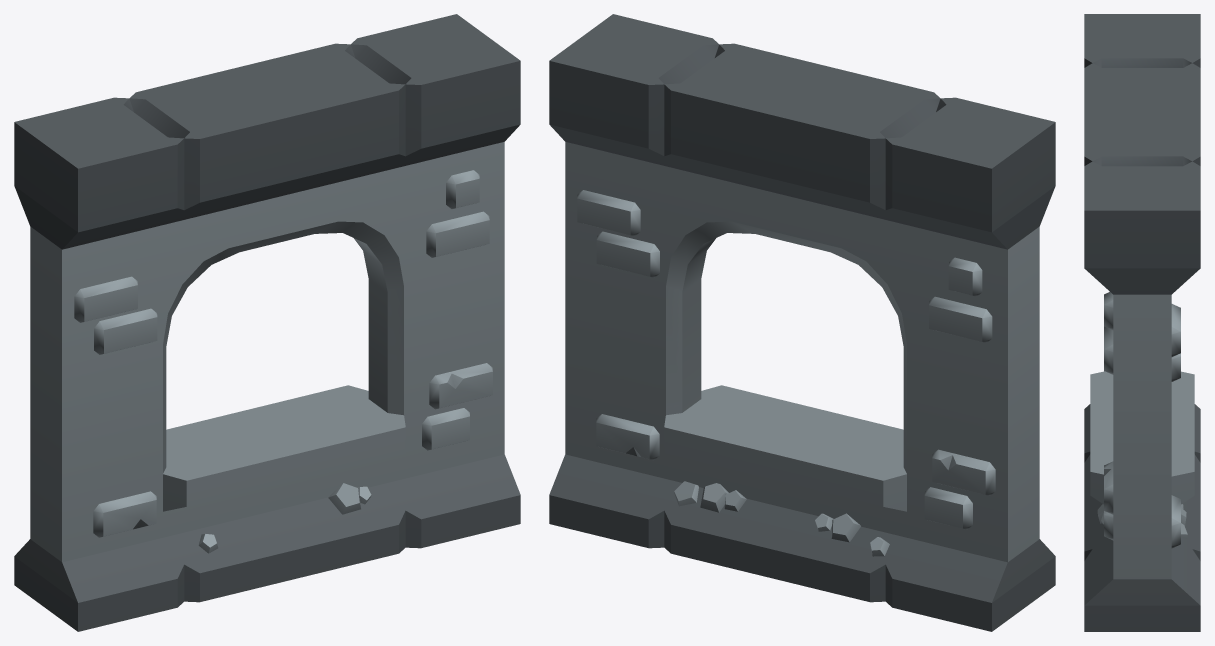
Rendered from wall_archedwindow_open.gltf.
3 views of the same model, side by side, from view 1: azimuth 30°, elevation 25°; view 2: azimuth 150°, elevation 25°; view 3: azimuth 270°, elevation 25° (orthographic). The views are drawn at different scales.
Parts seen in each view (by area): view 1: wall_archedwindow_open; view 2: wall_archedwindow_open; view 3: wall_archedwindow_open.
Part boxes in pixels (x1,y1,x2,y2): wall_archedwindow_open: (14, 14, 520, 631); wall_archedwindow_open: (549, 14, 1055, 631); wall_archedwindow_open: (1084, 14, 1200, 631).
Size of the model in its own units: 4 by 4 by 1.
Materials: 1 (1 with a texture image).
